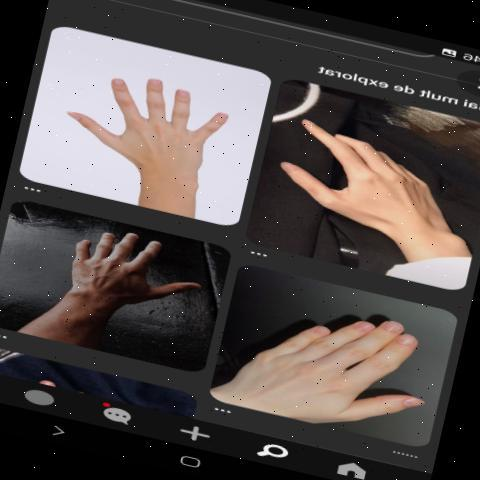Hands: (214, 311, 438, 424), (262, 120, 463, 240), (12, 232, 203, 347), (56, 64, 244, 178)
